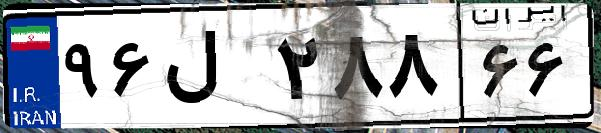2: (270, 28, 330, 110)
6: (475, 38, 525, 113), (525, 38, 570, 115), (110, 28, 158, 98)
8: (385, 28, 445, 110), (330, 28, 385, 110)
9: (57, 26, 110, 100)
ل: (158, 20, 270, 120)
